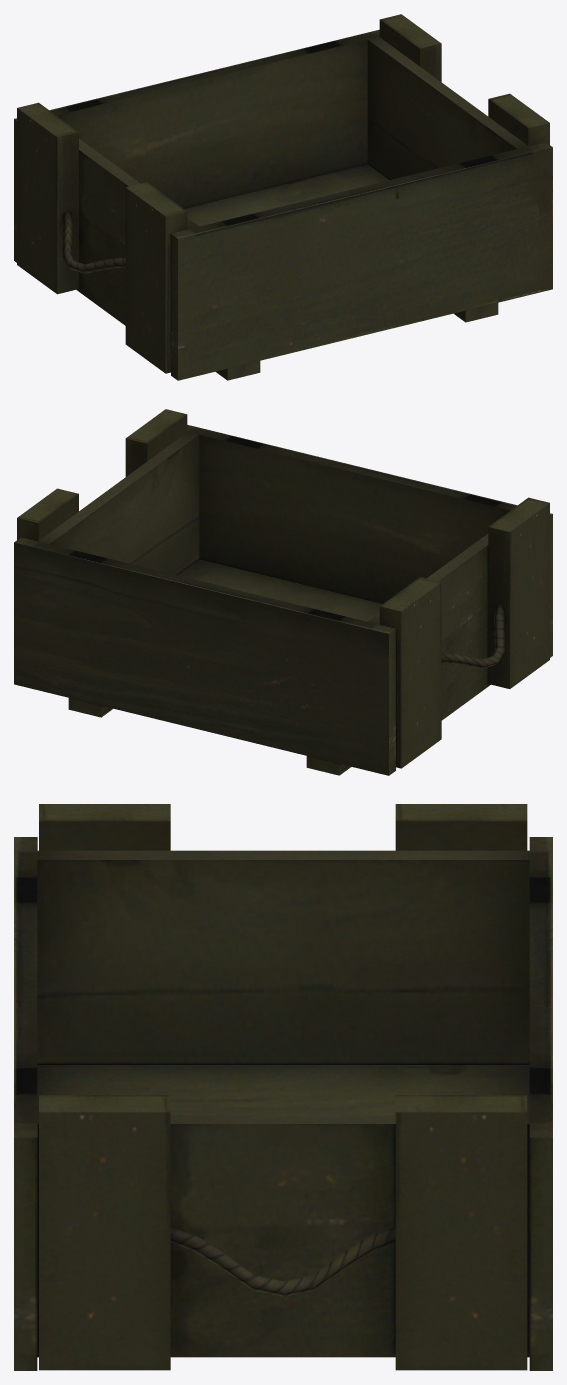
File: opened.fbx
3 views of the same model, one above another, from view 1: azimuth 30°, elevation 25°; view 2: azimuth 150°, elevation 25°; view 3: azimuth 270°, elevation 25° (orthographic). The views are drawn at different scales.
Parts seen in each view (by area): view 1: militarybox_mini_opened; view 2: militarybox_mini_opened; view 3: militarybox_mini_opened.
Boxes of the visible parts, x1,y1,x2,y2 form: militarybox_mini_opened: (14,14,552,380); militarybox_mini_opened: (14,409,552,775); militarybox_mini_opened: (14,804,552,1370).
Bounding box in the file's own units: 3305 × 1260 × 2177.
